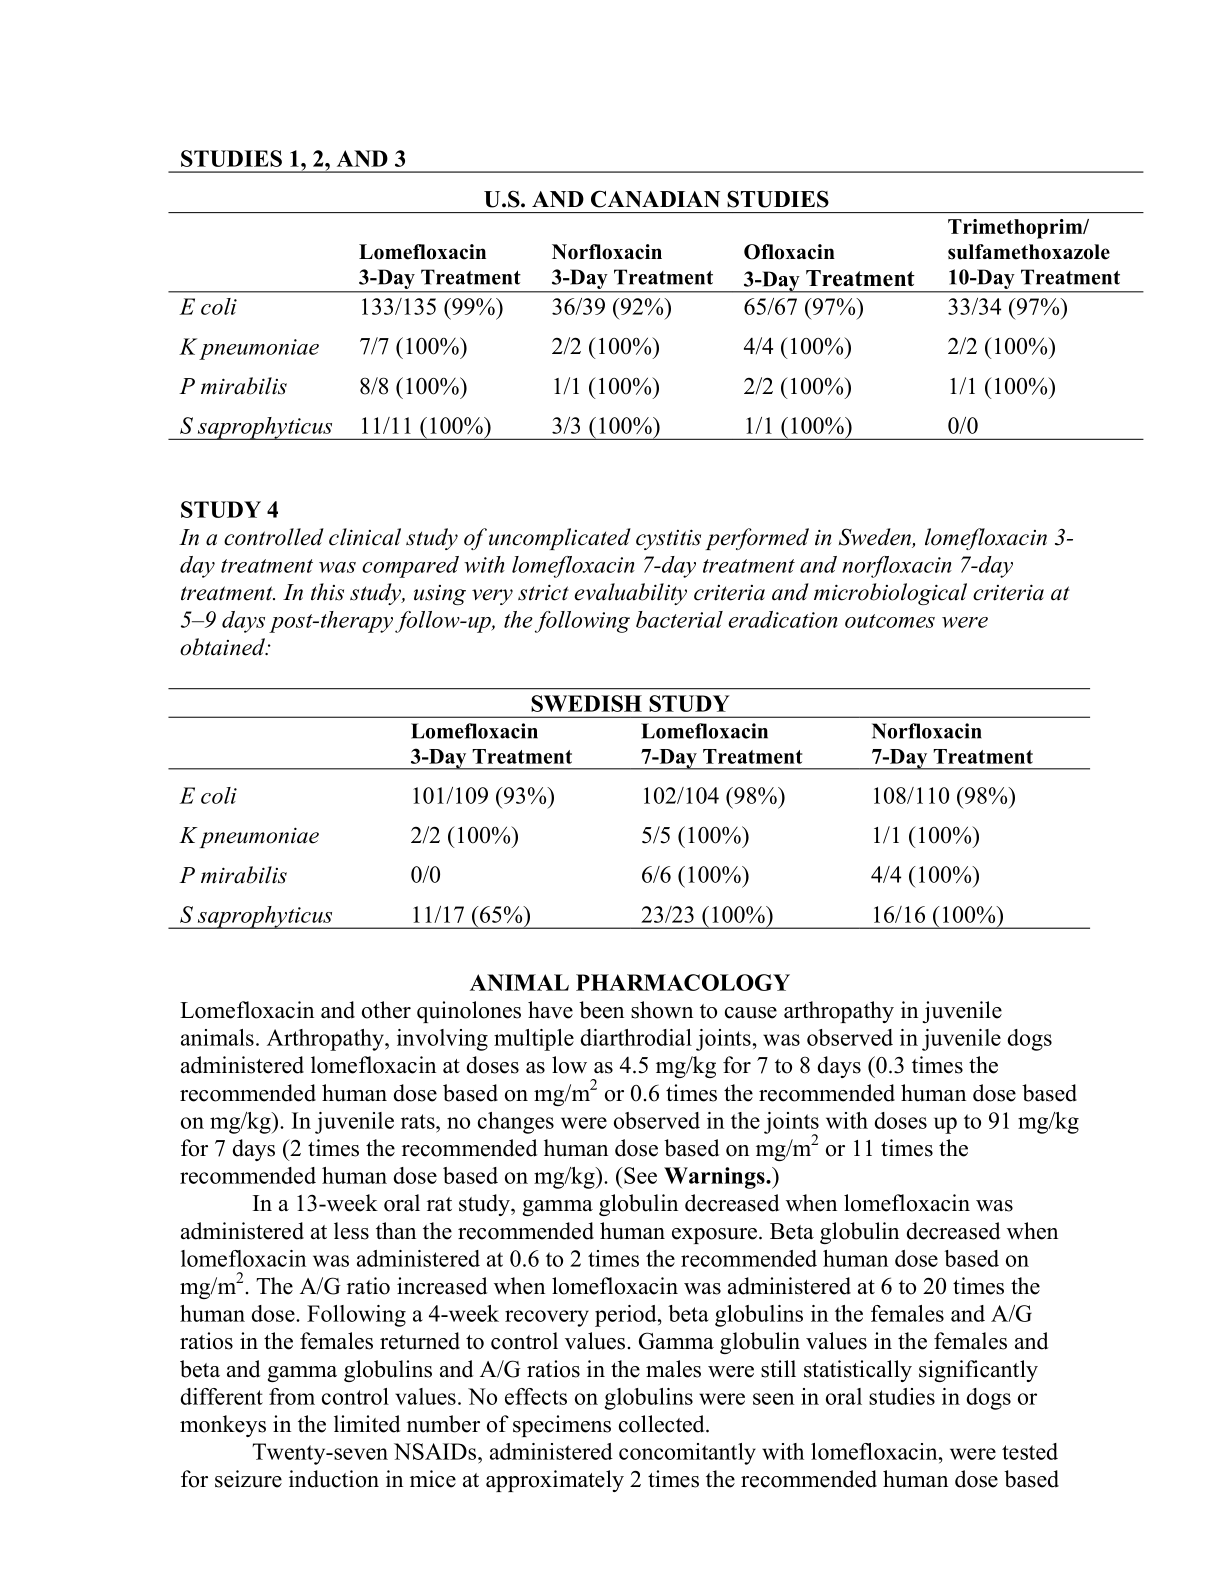partial_lined_merged_cells: (168, 171, 1146, 442), (167, 687, 1093, 931)
